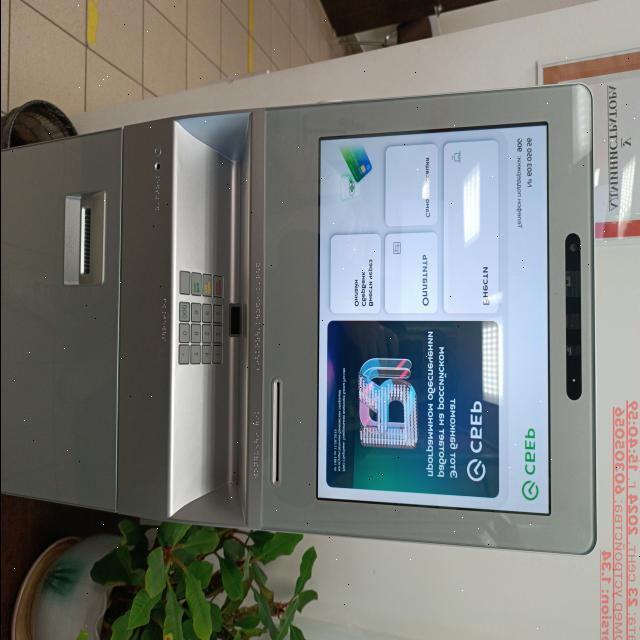bank: (0, 79, 599, 556)
